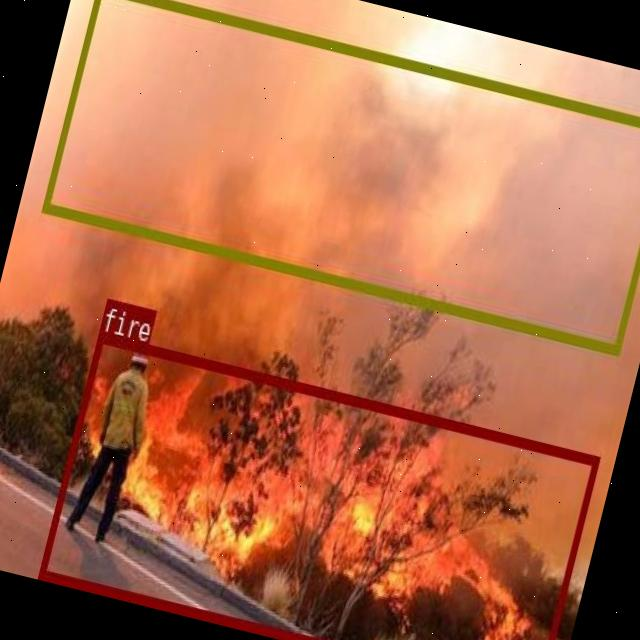fire: (38, 332, 598, 640)
smoke: (40, 0, 640, 354)
